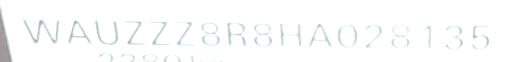letter: (20, 16, 62, 46), (93, 16, 121, 46), (66, 17, 94, 46), (306, 20, 334, 48), (276, 20, 304, 47), (122, 17, 148, 46), (148, 18, 174, 47), (172, 18, 198, 47), (388, 21, 412, 49), (225, 20, 249, 47), (362, 22, 386, 49), (442, 22, 464, 51), (198, 19, 220, 47), (252, 20, 274, 48), (336, 21, 358, 49), (470, 23, 490, 51), (420, 22, 434, 50)
